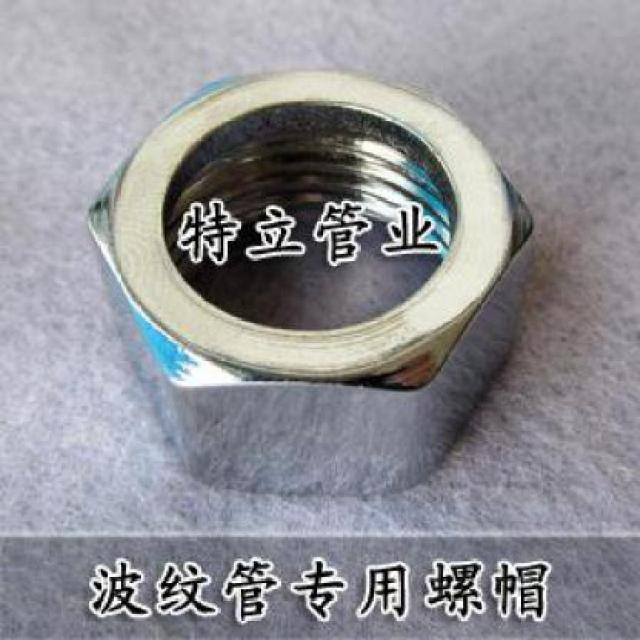Nut: (82, 66, 539, 497)
